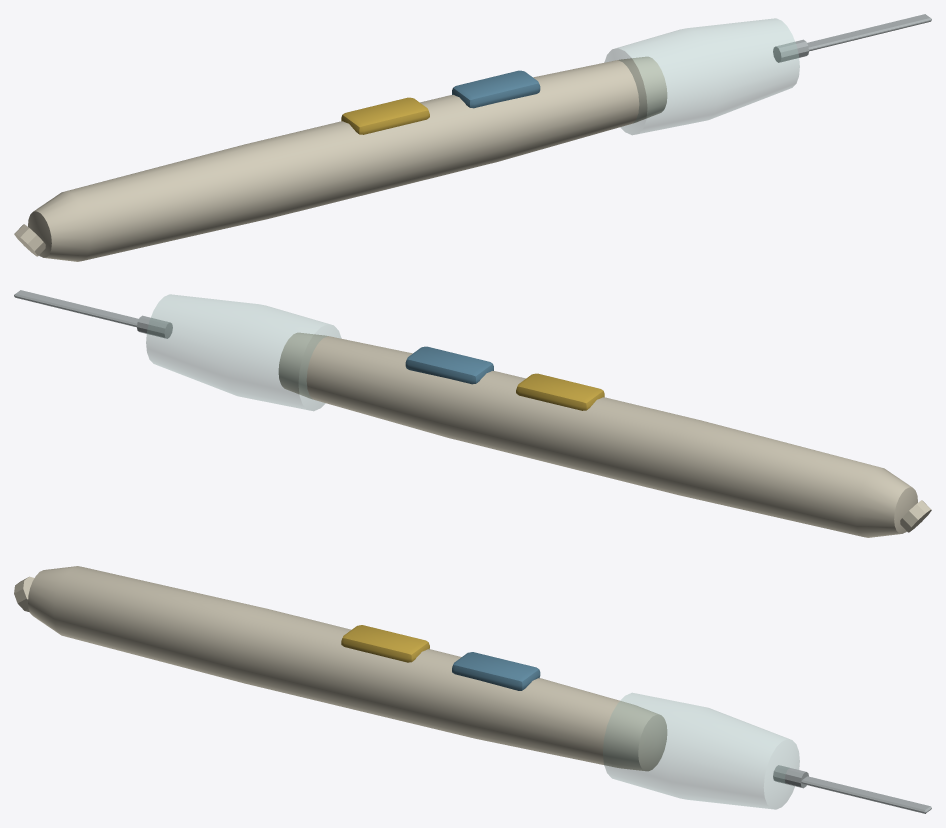
File: sc-esu-pencil.glb
3 renders of one model, top to bottom at view 1: azimuth 30°, elevation 25°; view 2: azimuth 150°, elevation 25°; view 3: azimuth 330°, elevation 25°, orthographic.
Visible parts, largest first — view 1: sc-esu-pencil; view 2: sc-esu-pencil; view 3: sc-esu-pencil.
Boxes of the visible parts, x1,y1,x2,y2 form: sc-esu-pencil: (14, 14, 931, 261); sc-esu-pencil: (14, 290, 931, 537); sc-esu-pencil: (14, 566, 931, 813).
Bounding box in the file's own units: 0.1978 × 0.018 × 0.018.
